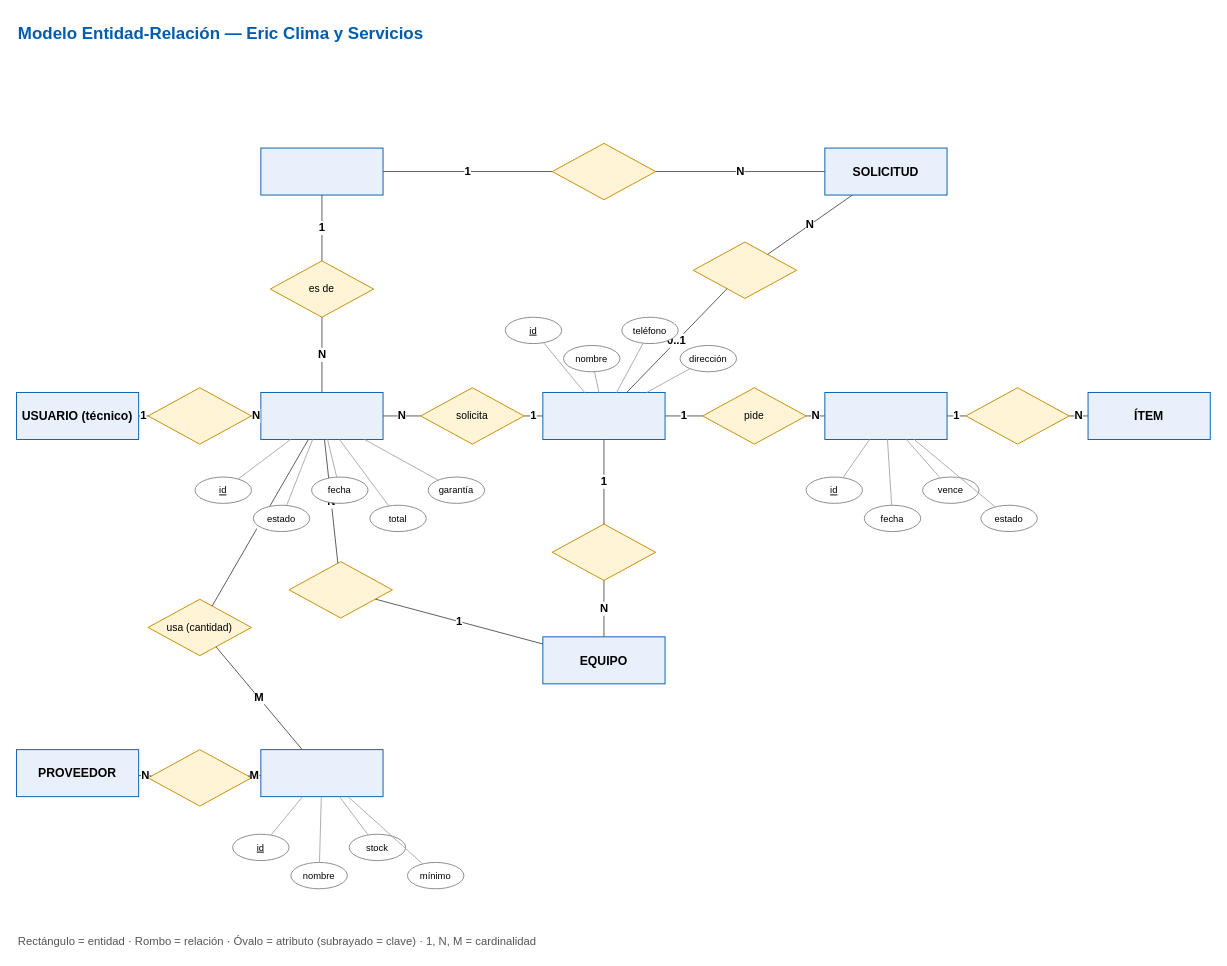
Some shapes in this 1227 by 966 pixel diagram are drawn without their labels. Here are the shapes that lost their labels. From the top down, the centre of each, then its label:
At point 321,171: "SERVICIO".
At point 603,171: "pide servicio".
At point 744,269: "envía".
At point 199,415: "realiza".
At point 321,415: "TRABAJO".
At point 603,415: "CLIENTE".
At point 885,415: "PRESUPUESTO".
At point 1017,415: "contiene".
At point 603,551: "posee".
At point 340,589: "se hace sobre".
At point 199,777: "provee (precio)".
At point 321,773: "MATERIAL".
